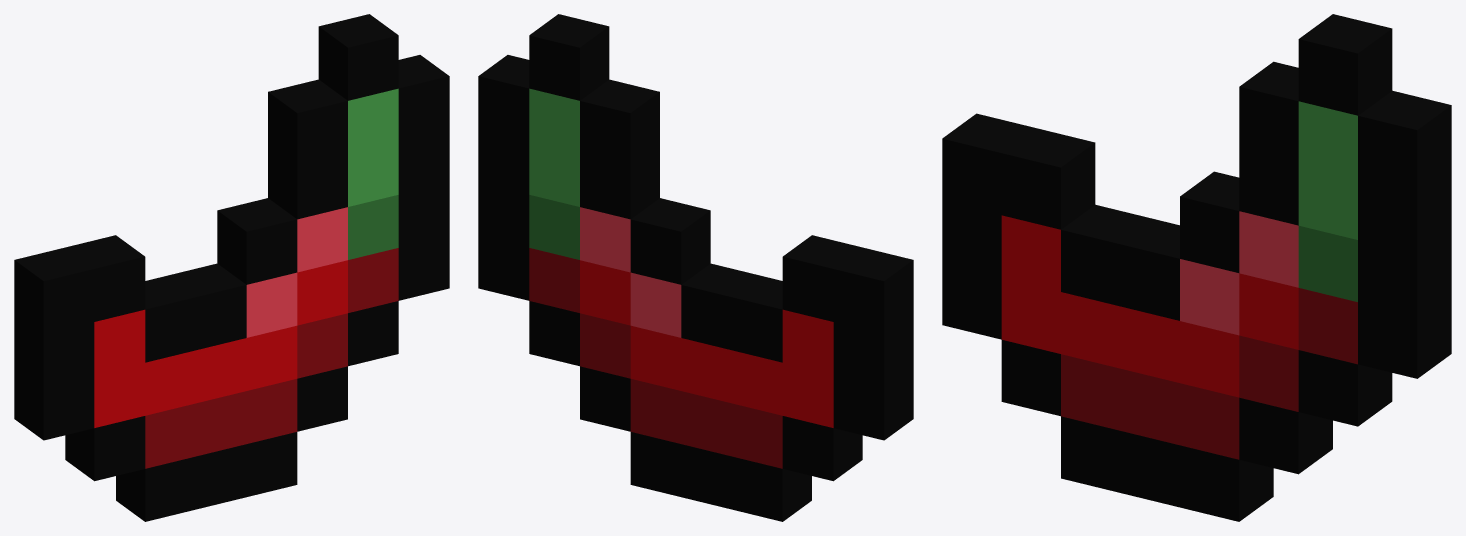
File: Chili Pepper.glb
The picture shows the model from 3 angles, left to right: view 1: azimuth 30°, elevation 25°; view 2: azimuth 150°, elevation 25°; view 3: azimuth 330°, elevation 25°; orthographic projection. The views are drawn at different scales.
Visible parts, largest first — view 1: generated(Clone); view 2: generated(Clone); view 3: generated(Clone).
Boxes of the visible parts, x1=… form: generated(Clone): x1=14, y1=14, x2=449, y2=521; generated(Clone): x1=478, y1=14, x2=913, y2=521; generated(Clone): x1=942, y1=14, x2=1451, y2=521.
Bounding box in the file's own units: 8 × 8 × 1.
1 material, 1 textured.
